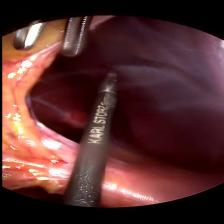Grasper: (11, 10, 91, 60)
Scissors: (88, 66, 128, 97)
